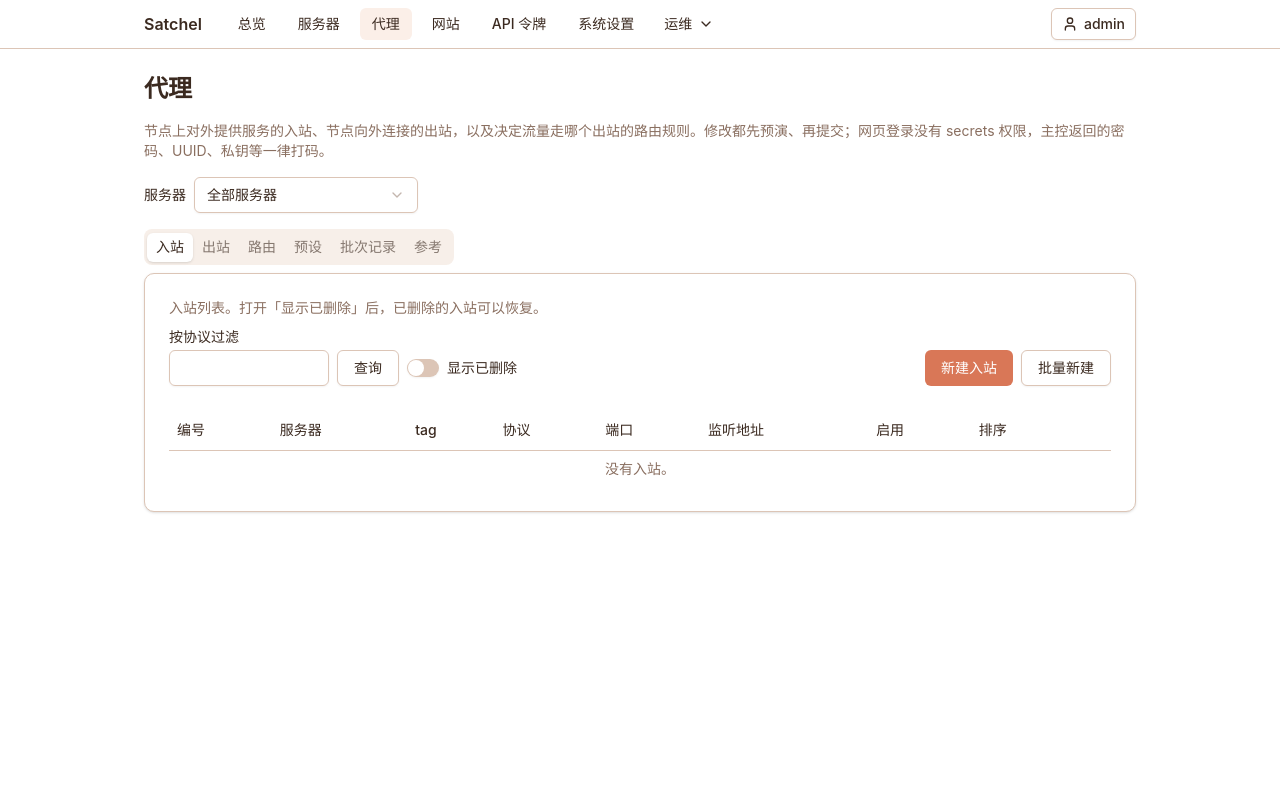
代理页：预设 › 已保存的预设只填匹配条件，不填出站
Click the tab "预设".
click(308, 247)  # box 285,232 -> 331,262
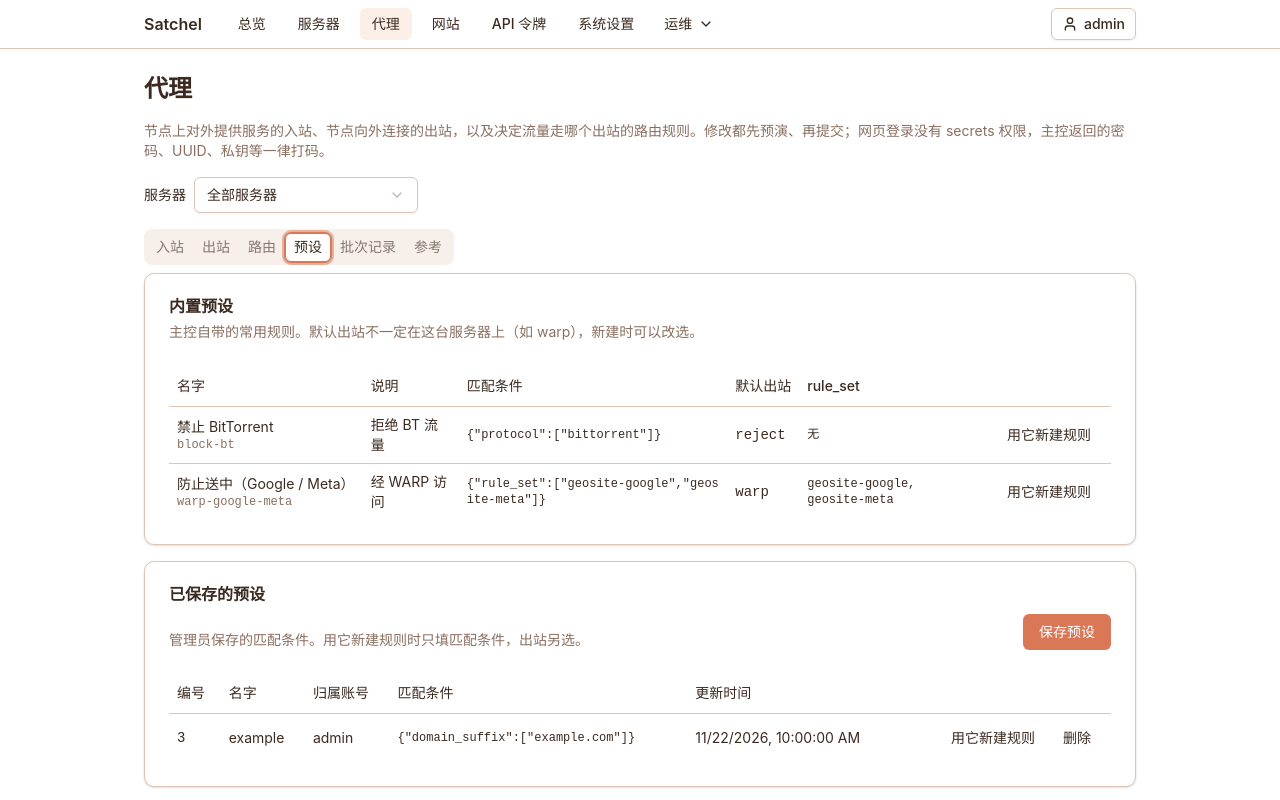
Click the button "用它新建规则" in the row of "{\"domain_suffix\":[\"example.com\"]}".
click(993, 738)  # box 939,722 -> 1047,754
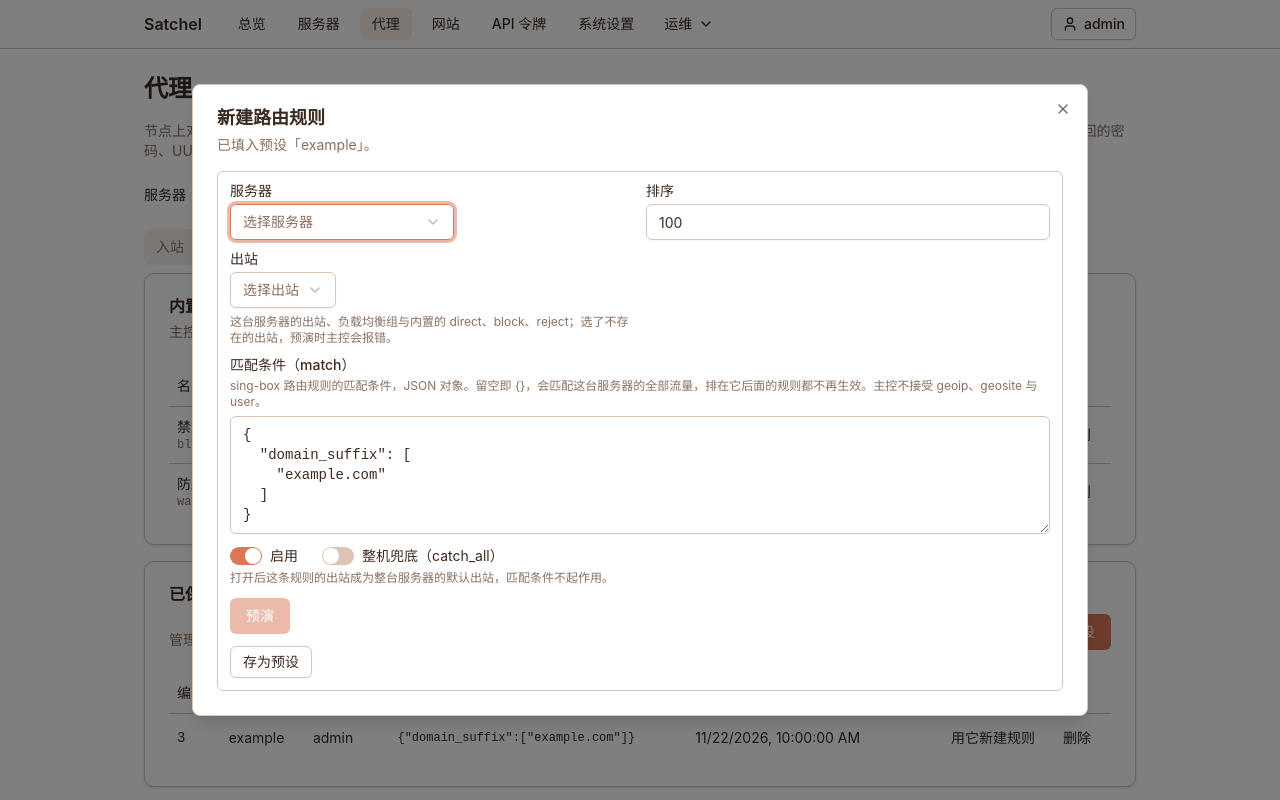
Check: the dropdown labelled "出站" reads "选择出站", box 230,272 -> 336,308
